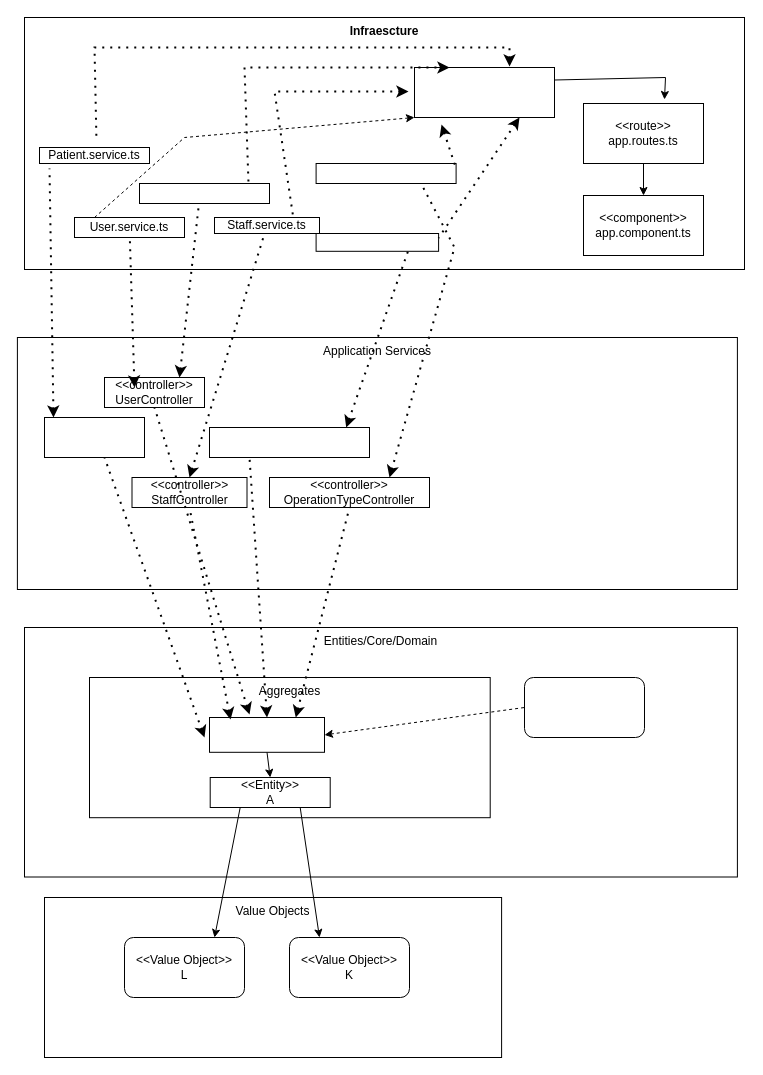
Some shapes in this 763 by 1075 pixel diagram are drawn without their labels. Each missing label, with the centre of its shape:
"<<component>> X.component.ts" goes at point (484, 92).
"<<controller>> OperationController" goes at point (289, 442).
"<<controller>> PatientController" goes at point (94, 437).
"<<Root>> X" goes at point (266, 734).
"authentication.service.ts" goes at point (204, 193).
"Doctor.service.ts" goes at point (377, 241).
"IRepositoriesY" goes at point (584, 707).
"operation-type.service.ts" goes at point (385, 173).
